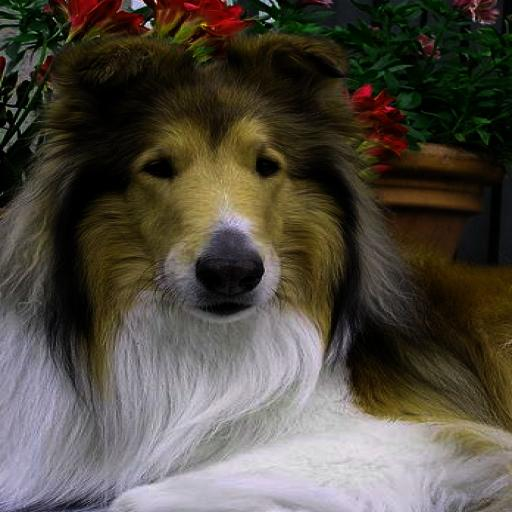dog_face: (50, 36, 372, 334)
